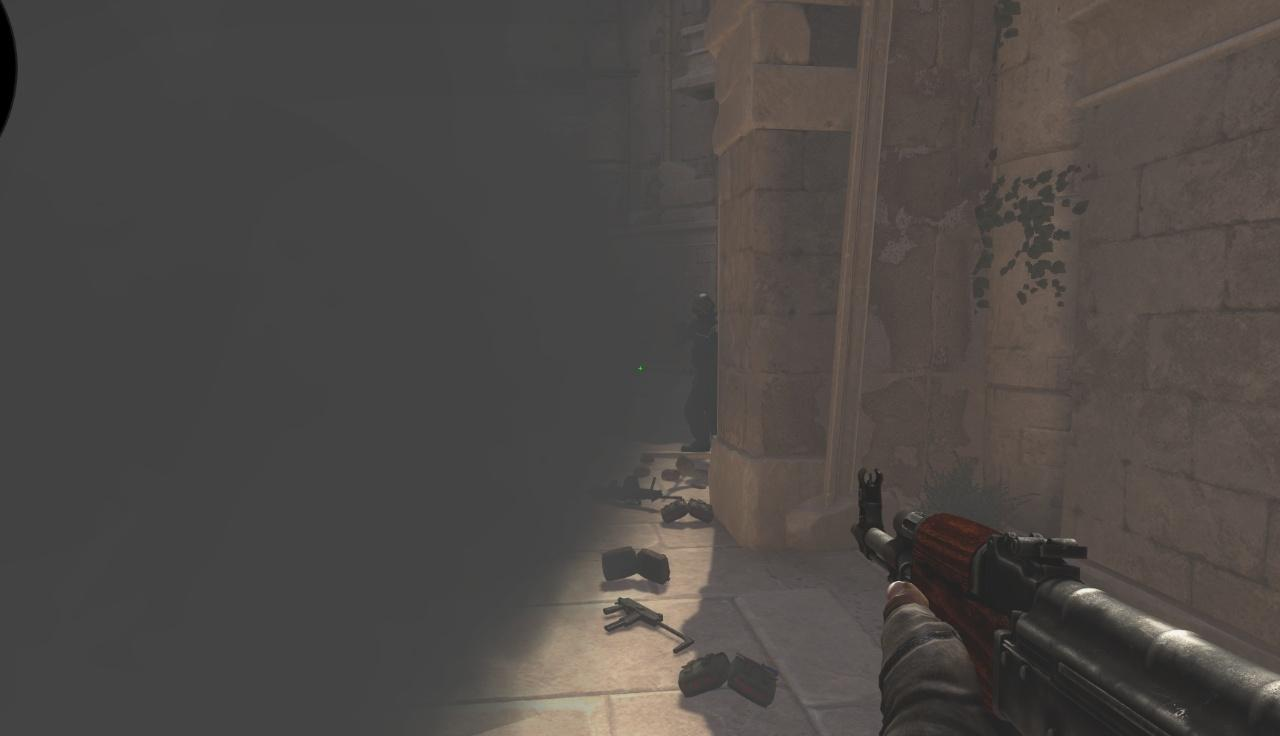ct: (679, 293, 719, 452)
cthead: (691, 294, 715, 319)
rifle: (852, 466, 1280, 736)
